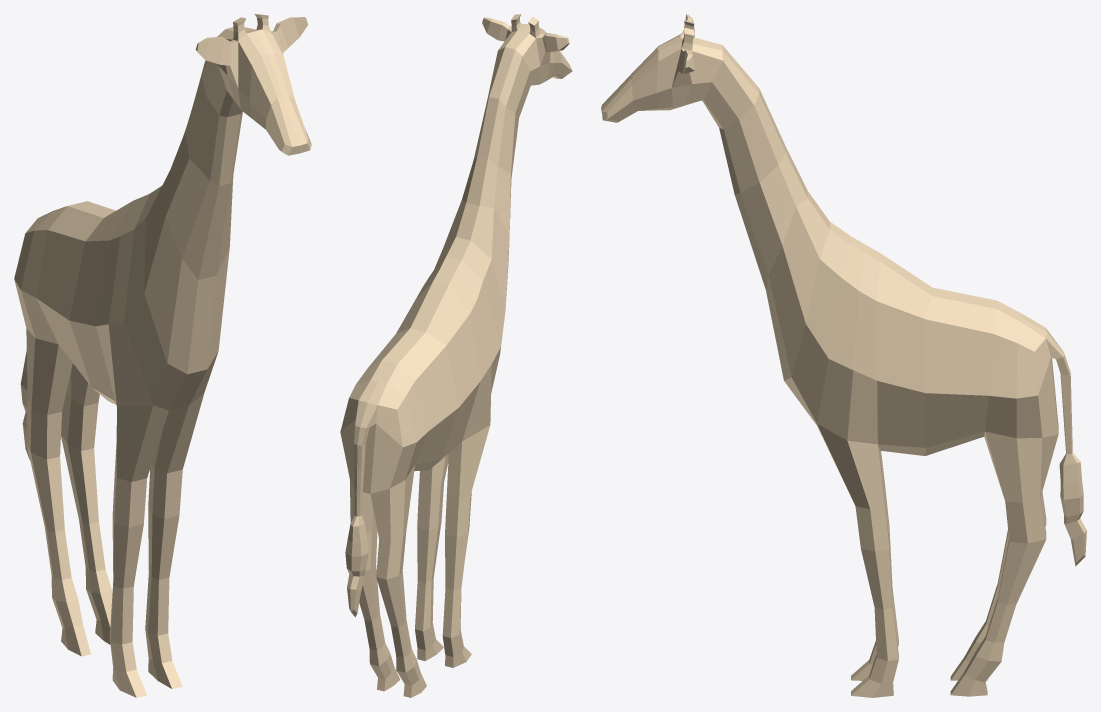
The model's file is giraffe.glb.
3 renders of one model, left to right at view 1: azimuth 30°, elevation 25°; view 2: azimuth 150°, elevation 25°; view 3: azimuth 270°, elevation 25°, orthographic. The views are drawn at different scales.
Parts seen in each view (by area): view 1: 18girafFinal; view 2: 18girafFinal; view 3: 18girafFinal.
Boxes of the visible parts, left/top/right/bottom form: 18girafFinal: left=14, top=14, right=311, bottom=697; 18girafFinal: left=340, top=14, right=572, bottom=697; 18girafFinal: left=601, top=14, right=1086, bottom=697.
Bounding box in the file's own units: 0.6176 × 3.96 × 2.63.
1 material, 1 textured.
